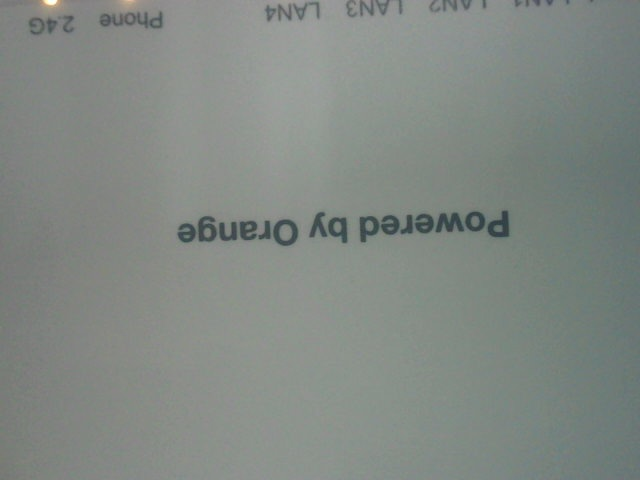AS_PowerByOrange: (167, 203, 521, 242)
